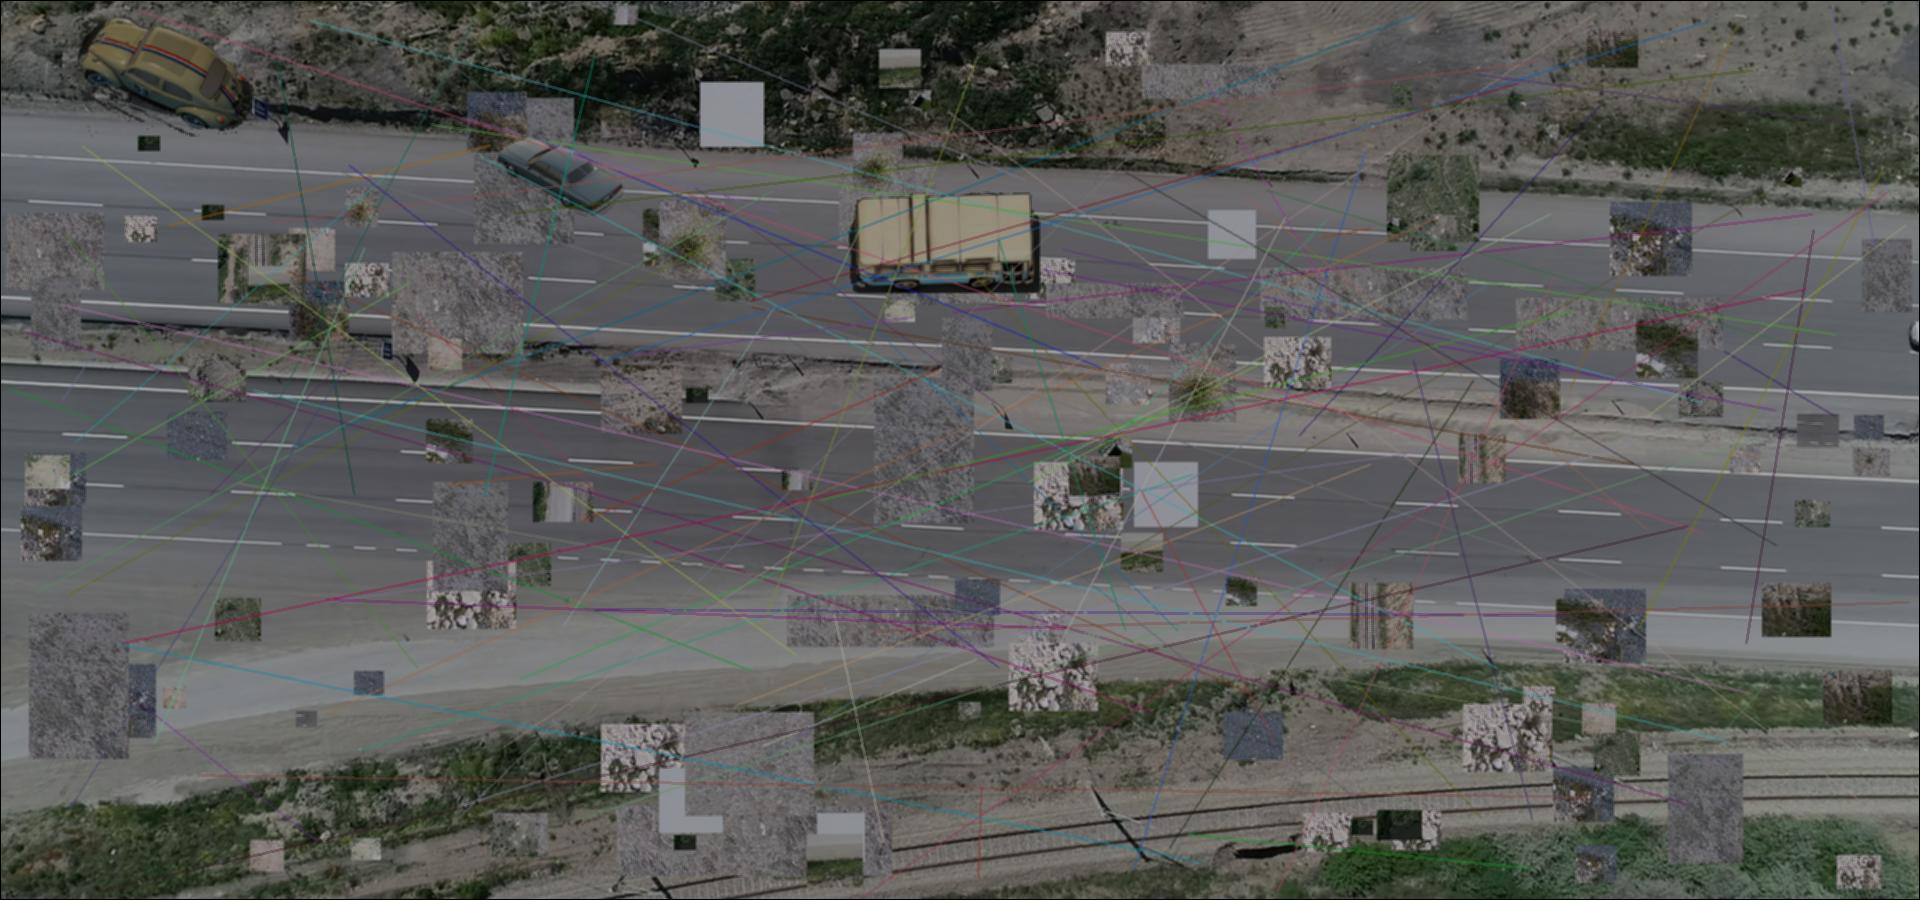arac: (78, 16, 253, 136), (844, 192, 1040, 293), (491, 136, 624, 216)
